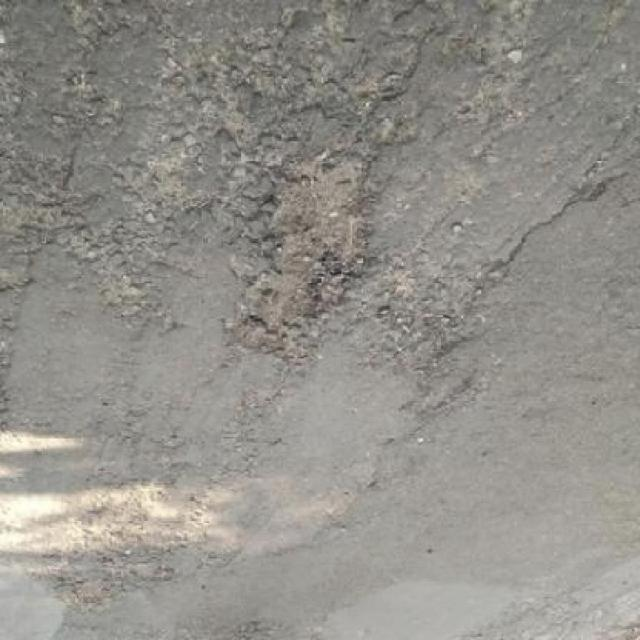pothole1: (218, 151, 379, 363), (373, 283, 469, 366)
